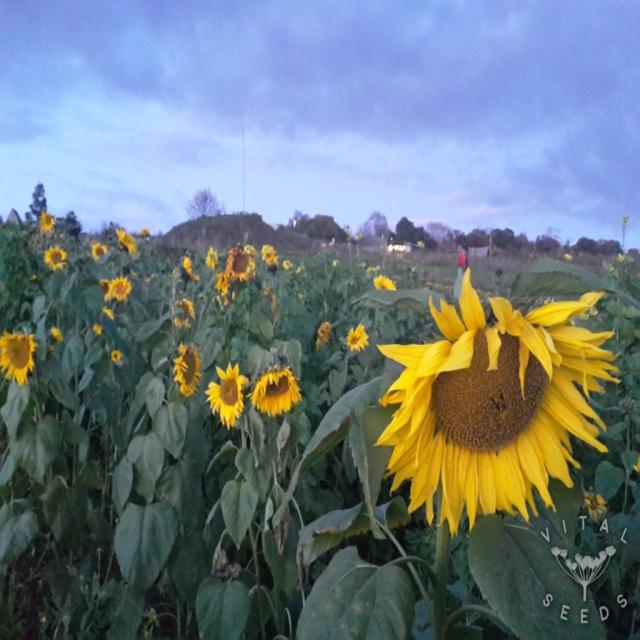sunflower: (363, 264, 626, 538), (205, 361, 249, 432), (245, 362, 302, 415), (0, 328, 39, 384), (168, 336, 202, 400), (221, 240, 257, 286), (169, 298, 200, 333), (105, 268, 134, 304), (343, 320, 373, 354), (41, 242, 68, 269), (89, 237, 109, 265), (37, 207, 58, 230)
